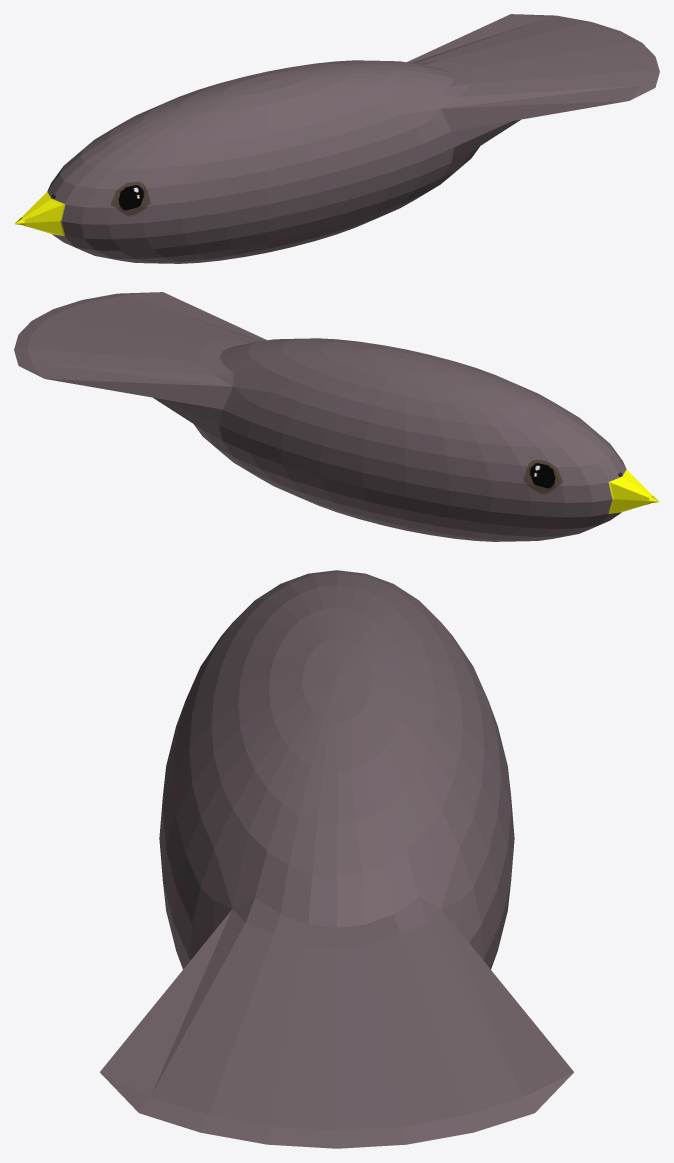
File: body.obj
3 views of the same model, one above another, from view 1: azimuth 30°, elevation 25°; view 2: azimuth 150°, elevation 25°; view 3: azimuth 270°, elevation 25° (orthographic). The views are drawn at different scales.
Visible parts, largest first — view 1: Sphere; view 2: Sphere; view 3: Sphere.
Boxes of the visible parts, x1,y1,x2,y2 form: Sphere: [14, 14, 659, 263]; Sphere: [14, 292, 659, 541]; Sphere: [100, 570, 573, 1148].
Bounding box in the file's own units: 0.0817 × 0.02 × 0.0267.
1 material, 1 textured.
